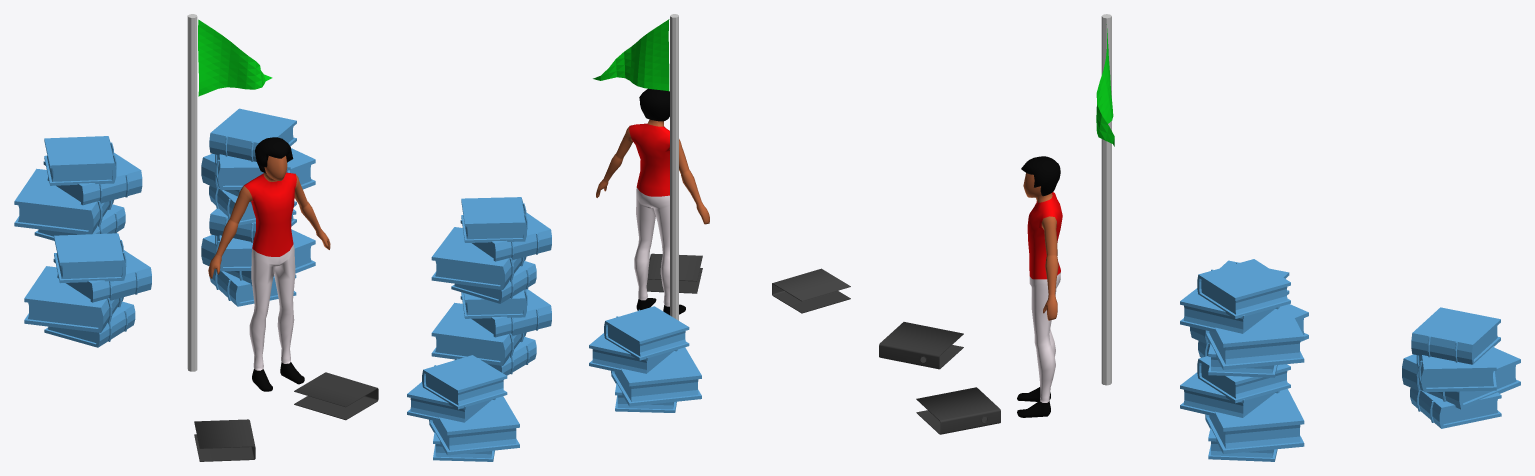
3 views of the same model, side by side, from view 1: azimuth 30°, elevation 25°; view 2: azimuth 150°, elevation 25°; view 3: azimuth 270°, elevation 25° (orthographic). The views are drawn at different scales.
Parts seen in each view (by area): view 1: corpo.001, Cylinder_001_6_0, Cylinder.001_Hig_0.001, Cylinder.001_Hig_0.013, Cylinder.001_Hig_0.003, Cylinder.001_Hig_0.015, Plane, Cylinder.001_Hig_0.011, low_poly__0.001, low_poly, Cylinder.001_Hig_0.014, Cylinder.001_Hig_0.002 (+10 smaller); view 2: corpo.001, Cylinder.001_Hig_0.013, Cylinder.001_Hig_0.001, Cylinder.001_Hig_0.009, Cylinder.001_Hig_0.003, Cylinder.001_Hig_0.015, Cylinder.001_Hig_0.005, Cylinder.001_Hig_0.011, Plane, Cylinder_001_6_0, low_poly, Cylinder.001_Hig_0.006 (+10 smaller); view 3: corpo.001, Cylinder.001_Hig_0.009, Cylinder.001_Hig_0.005, Cylinder.001_Hig_0.011, Cylinder.001_Hig_0.015, Cylinder_001_6_0, low_poly, low_poly__0.001, Cylinder.001_Hig_0.014, Cylinder.001_Hig_0.013, Cylinder.001_Hig_0.012, Cylinder.001_Hig_0.007 (+6 smaller).
Part boxes in pixels (bbox=[...]): corpo.001: bbox=[208, 156, 330, 391]; Cylinder_001_6_0: bbox=[187, 14, 197, 371]; Cylinder.001_Hig_0.001: bbox=[24, 266, 123, 332]; Cylinder.001_Hig_0.013: bbox=[14, 168, 113, 234]; Cylinder.001_Hig_0.003: bbox=[54, 233, 126, 283]; Cylinder.001_Hig_0.015: bbox=[44, 136, 116, 185]; Plane: bbox=[198, 19, 272, 96]; Cylinder.001_Hig_0.011: bbox=[209, 108, 296, 161]; low_poly__0.001: bbox=[294, 372, 378, 420]; low_poly: bbox=[194, 419, 255, 461]; Cylinder.001_Hig_0.014: bbox=[43, 152, 142, 205]; Cylinder.001_Hig_0.002: bbox=[53, 250, 151, 302]; corpo.001: bbox=[596, 119, 709, 315]; Cylinder.001_Hig_0.013: bbox=[429, 396, 519, 455]; Cylinder.001_Hig_0.001: bbox=[611, 347, 701, 406]; Cylinder.001_Hig_0.009: bbox=[431, 227, 526, 289]; Cylinder.001_Hig_0.003: bbox=[604, 306, 689, 360]; Cylinder.001_Hig_0.015: bbox=[422, 355, 507, 409]; Cylinder.001_Hig_0.005: bbox=[431, 302, 526, 365]; Cylinder.001_Hig_0.011: bbox=[461, 197, 527, 242]; Plane: bbox=[593, 19, 669, 91]; Cylinder_001_6_0: bbox=[670, 14, 678, 320]; low_poly: bbox=[772, 268, 850, 313]; Cylinder.001_Hig_0.006: bbox=[460, 289, 551, 337]; corpo.001: bbox=[1017, 173, 1062, 417]; Cylinder.001_Hig_0.009: bbox=[1205, 304, 1304, 369]; Cylinder.001_Hig_0.005: bbox=[1205, 389, 1304, 453]; Cylinder.001_Hig_0.011: bbox=[1197, 259, 1290, 318]; Cylinder.001_Hig_0.015: bbox=[1411, 307, 1500, 364]; Cylinder_001_6_0: bbox=[1101, 14, 1111, 385]; low_poly: bbox=[879, 322, 963, 369]; low_poly__0.001: bbox=[916, 387, 1000, 434]; Cylinder.001_Hig_0.014: bbox=[1416, 346, 1496, 392]; Cylinder.001_Hig_0.013: bbox=[1402, 347, 1520, 409]; Cylinder.001_Hig_0.012: bbox=[1410, 388, 1501, 428]; Cylinder.001_Hig_0.007: bbox=[1197, 356, 1290, 403].
Size of the model in its own units: 3.08 by 3.75 by 5.94.
